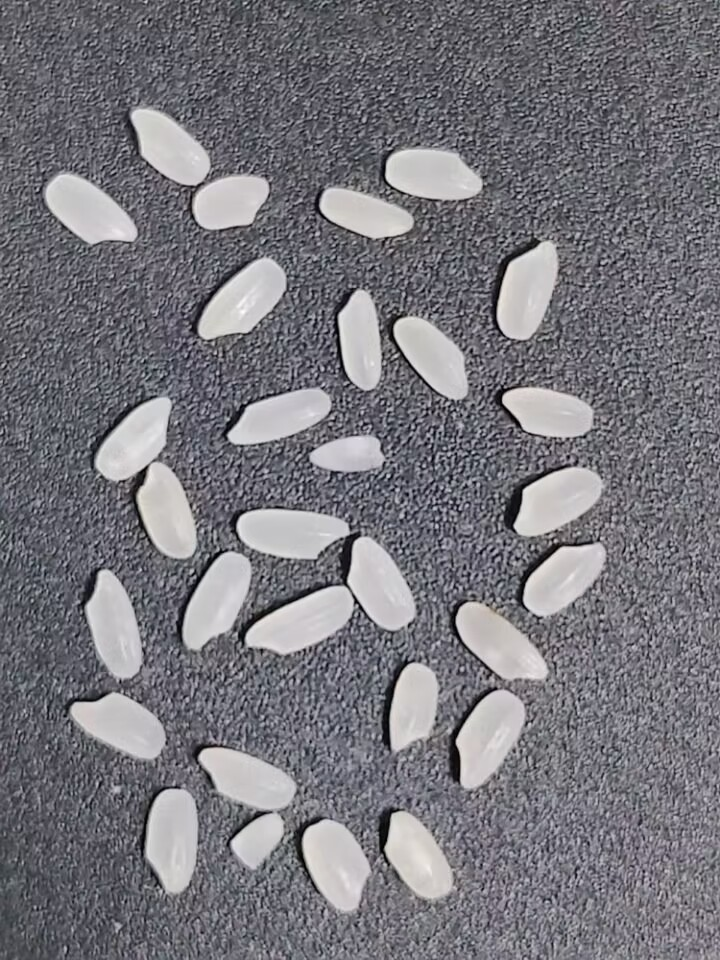broken: (306, 429, 393, 484), (223, 813, 289, 870)
rice: (451, 598, 551, 691), (87, 392, 179, 489), (177, 549, 259, 656), (375, 804, 463, 903), (191, 256, 291, 343), (75, 565, 148, 684), (238, 583, 353, 658), (390, 309, 472, 413), (39, 170, 140, 251), (506, 461, 609, 540), (515, 536, 616, 614), (193, 741, 302, 812), (453, 687, 527, 791), (298, 815, 370, 920), (121, 105, 212, 187), (62, 690, 170, 759), (233, 506, 352, 568), (343, 537, 419, 634), (138, 786, 203, 899), (492, 237, 560, 344), (225, 385, 337, 449), (132, 461, 201, 558), (498, 380, 599, 445), (380, 147, 491, 205), (316, 185, 416, 246), (332, 289, 386, 397), (182, 169, 274, 232), (383, 659, 443, 753)
